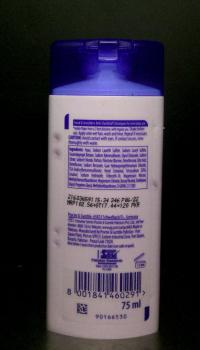dent_marginal: (47, 217, 73, 237), (144, 173, 166, 195), (45, 146, 68, 166), (45, 239, 71, 255), (45, 128, 68, 142)
